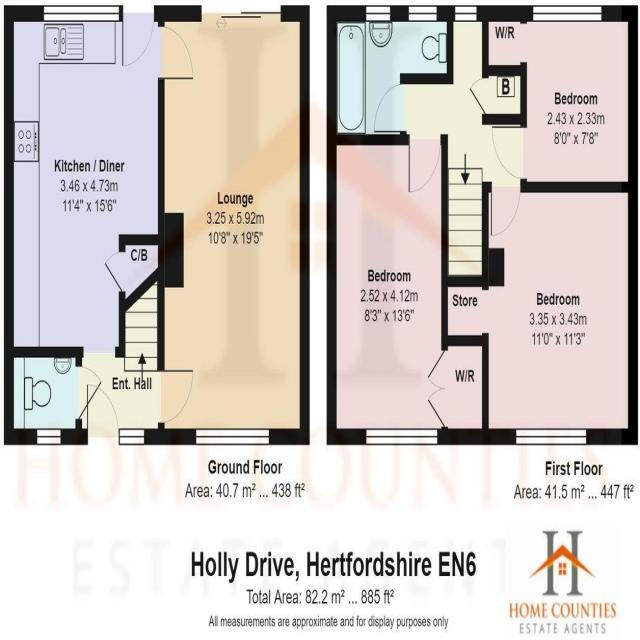DOOR: (485, 121, 527, 186), (488, 179, 526, 243), (157, 24, 196, 85), (407, 134, 445, 196), (157, 366, 195, 427), (121, 5, 157, 69), (86, 380, 120, 445), (371, 79, 410, 135)
ROOM: (4, 3, 202, 447), (158, 6, 310, 445), (440, 181, 638, 445), (326, 134, 489, 447), (482, 6, 638, 194)
WINDOW: (531, 0, 604, 27), (365, 423, 440, 449), (514, 425, 589, 448), (195, 425, 271, 447), (43, 3, 120, 24), (406, 2, 439, 24), (364, 1, 392, 25), (452, 3, 479, 25), (36, 425, 61, 447)
